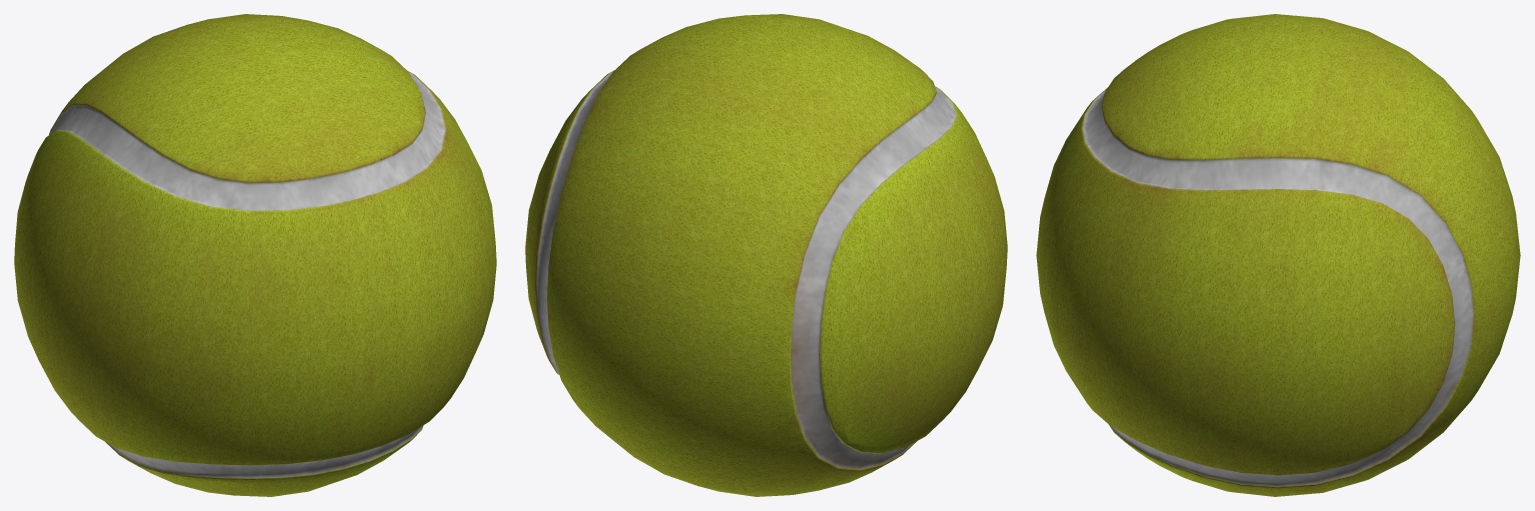
Rendered from tennis_ball.glb.
3 renders of one model, left to right at view 1: azimuth 30°, elevation 25°; view 2: azimuth 150°, elevation 25°; view 3: azimuth 270°, elevation 25°, orthographic.
Visible parts, largest first — view 1: tennis_ball; view 2: tennis_ball; view 3: tennis_ball.
Boxes of the visible parts, bbox=[...] form: tennis_ball: bbox=[14, 14, 496, 496]; tennis_ball: bbox=[525, 14, 1007, 496]; tennis_ball: bbox=[1036, 14, 1520, 496].
Size of the model in its own units: 17.03 by 17.03 by 17.03.
1 material, 1 textured.
